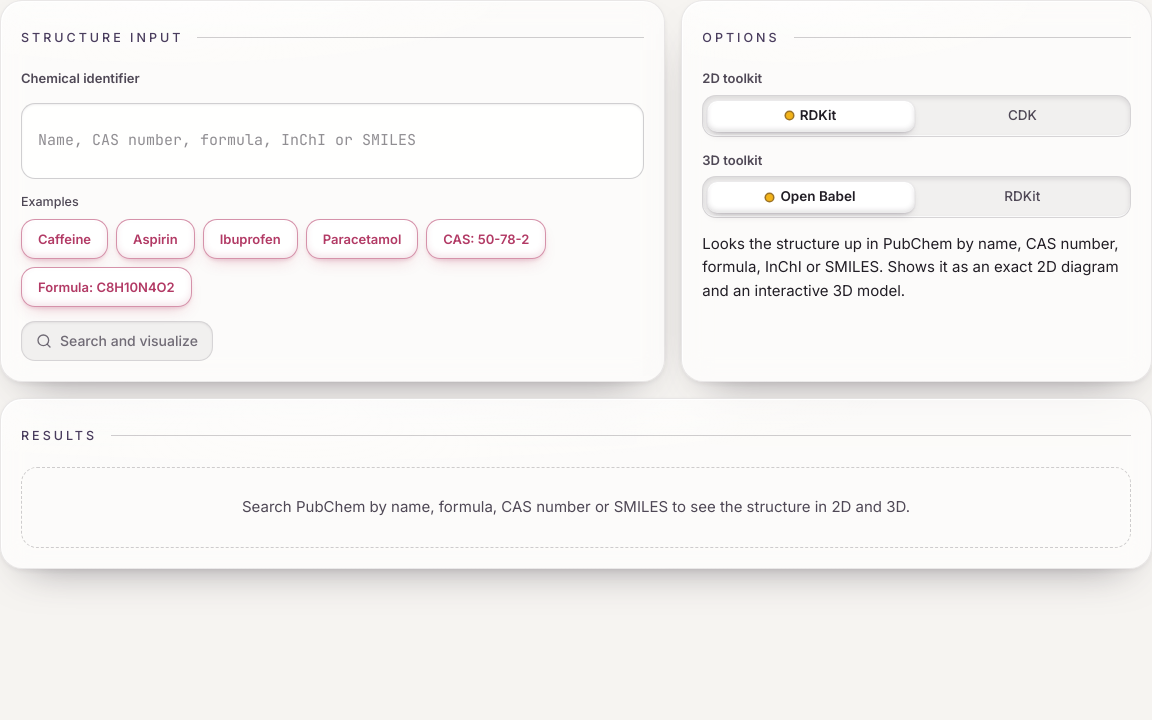
Test: StructureVisualizerView (bento) › keeps a lookup error in the results panel
Type "caffeine" into the field labelled "Chemical identifier" at [333, 140], box [21,102,644,178]
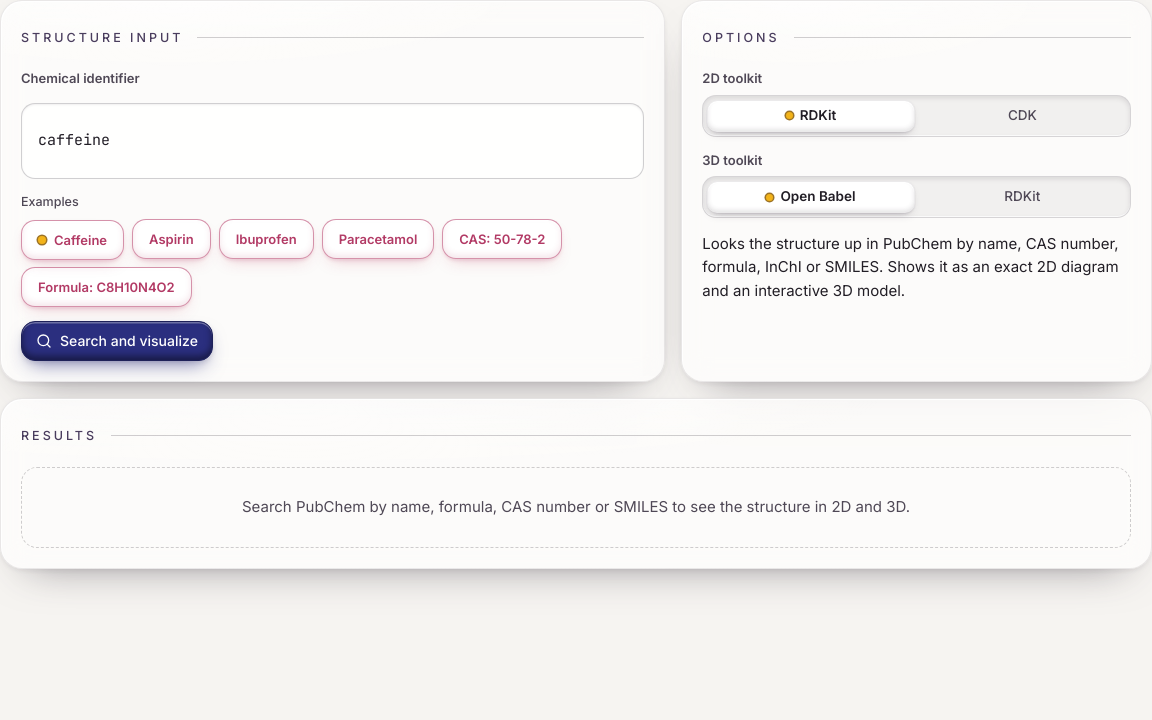
Click the button "Search and visualize" at [117, 341], box [21,321,213,361]
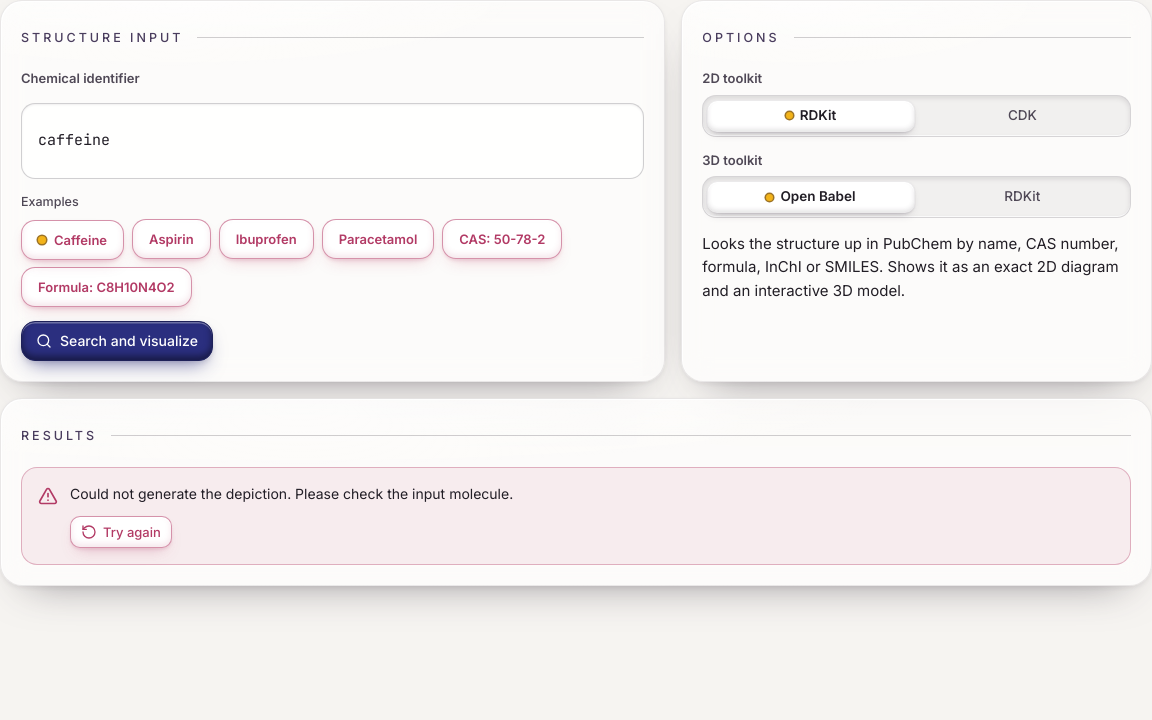
Now the message "Could not generate the depiction. Please check the input molecule. Try again" is shown, box [21,467,1131,565]
